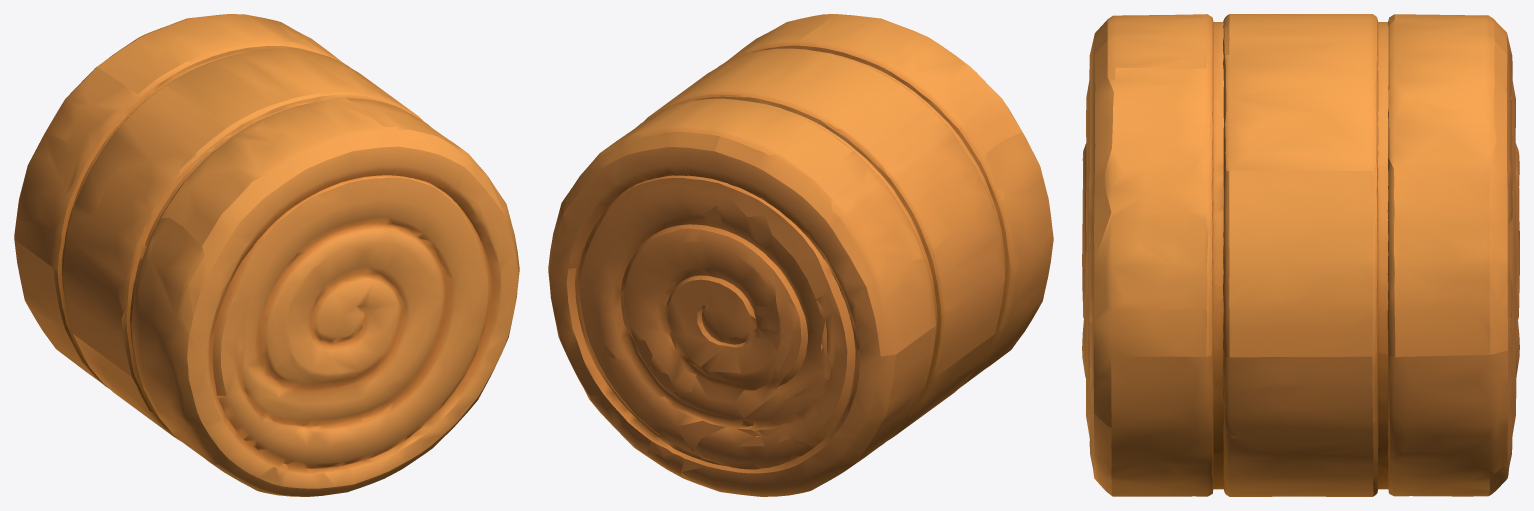
File: PROP_C1_HAYBALE.glb
3 renders of one model, left to right at view 1: azimuth 30°, elevation 25°; view 2: azimuth 150°, elevation 25°; view 3: azimuth 270°, elevation 25°, orthographic. The views are drawn at different scales.
Visible parts, largest first — view 1: world; view 2: world; view 3: world.
Part boxes in pixels (box(x1,y1,x2,y2)): world: box(14, 14, 519, 496); world: box(548, 14, 1053, 496); world: box(1082, 14, 1519, 496).
Size of the model in its own units: 1 by 0.9878 by 0.9035.
1 material, 1 textured.
